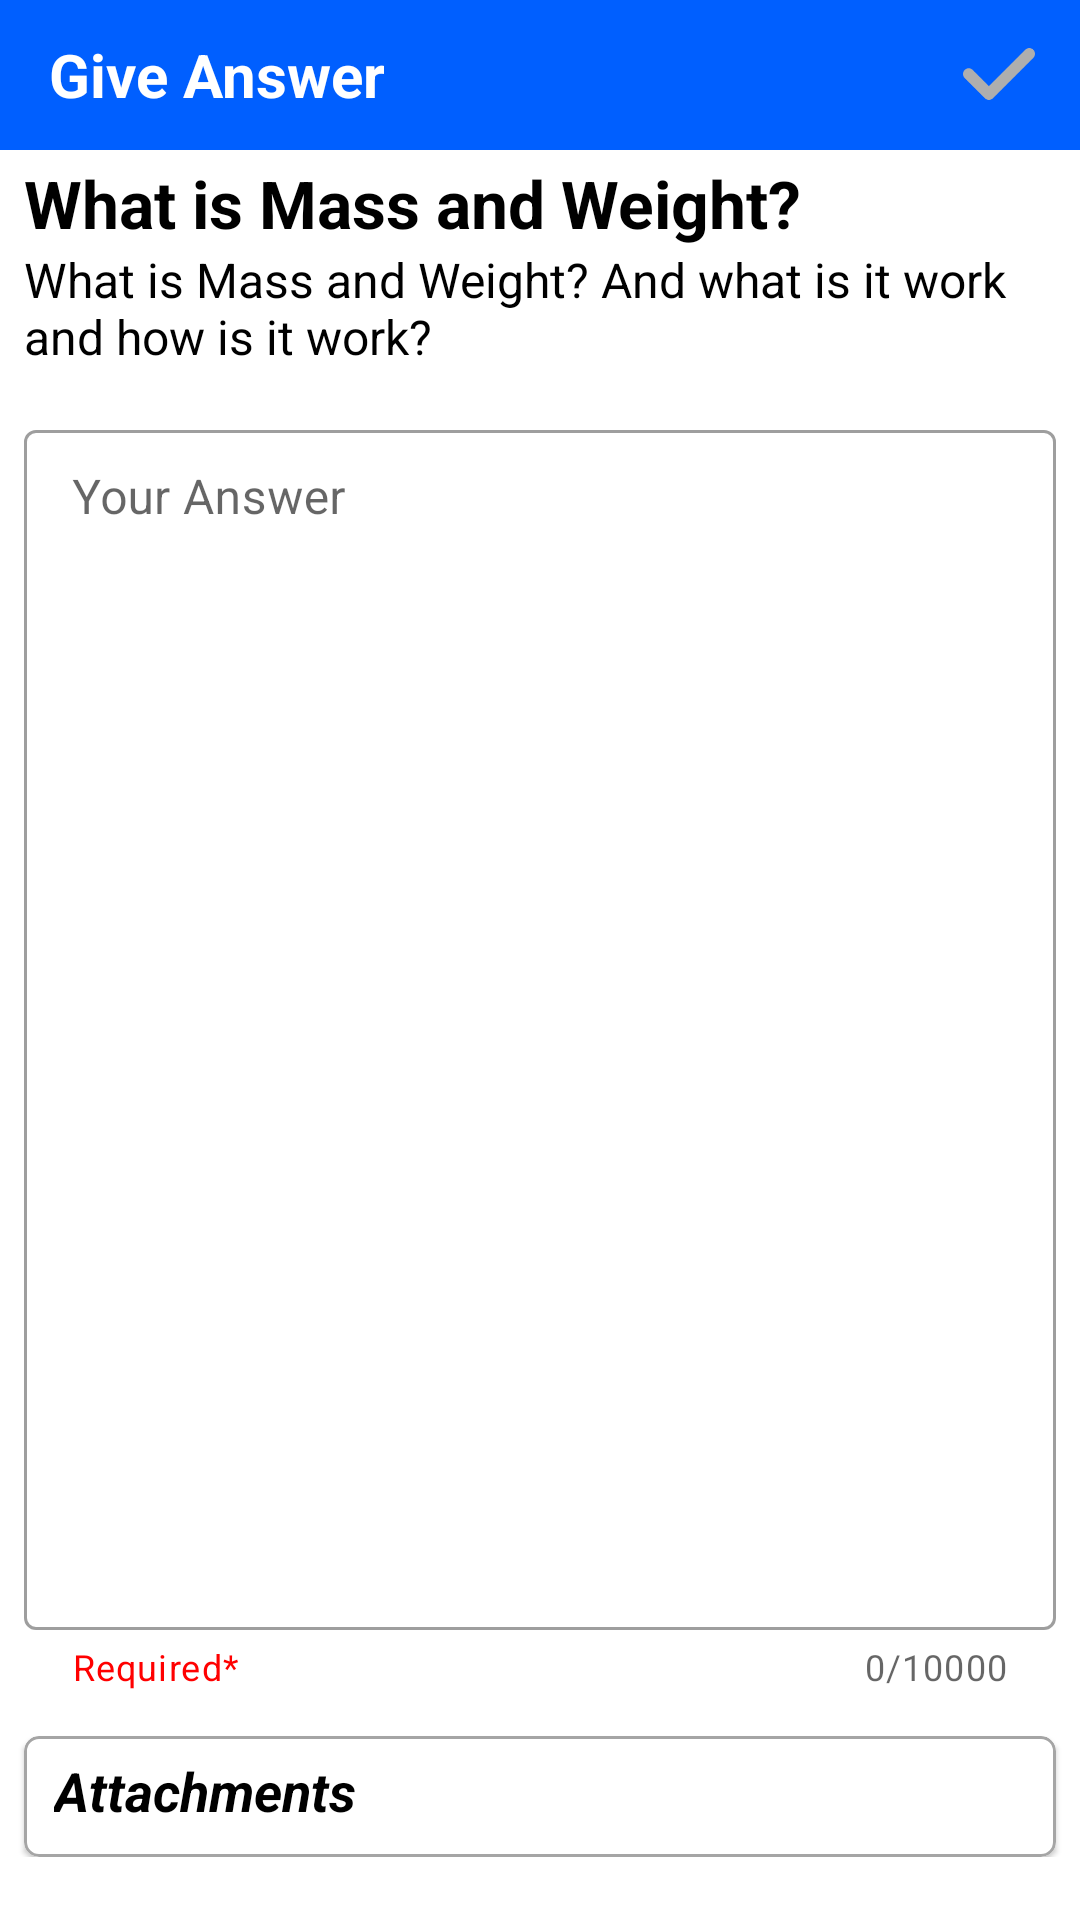

Icons on this 1080px×1920px Android screen, each with the point to tap as (x=x, y=y):
tick: (x=999, y=74)
